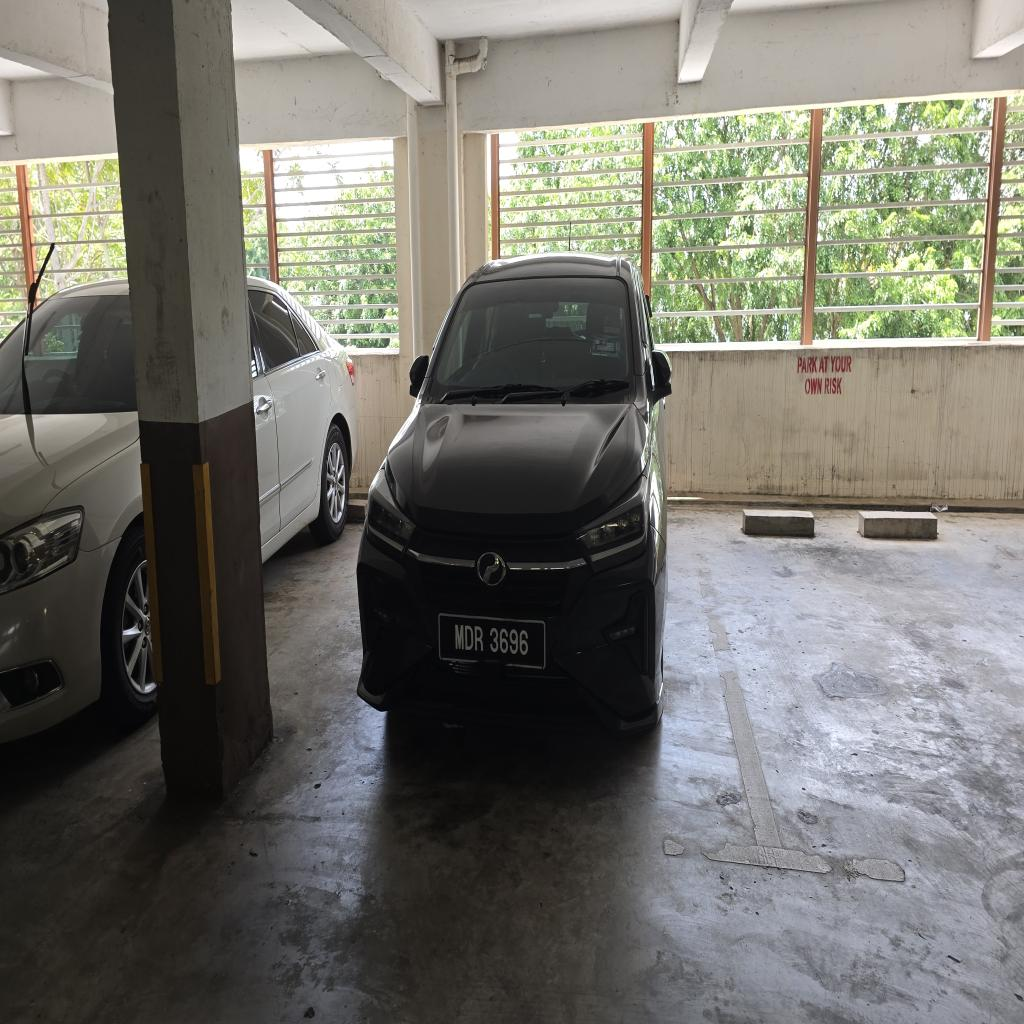car: (358, 254, 670, 731)
car plate: (439, 614, 545, 668)
